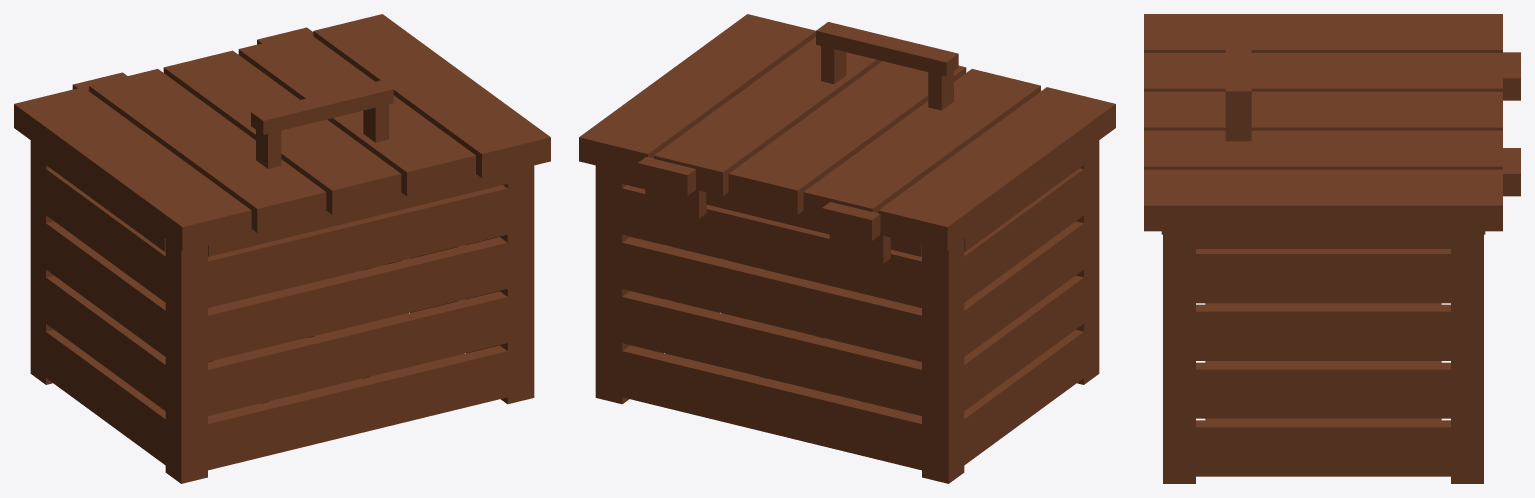
The model's file is GardenBox.glb.
3 views of the same model, side by side, from view 1: azimuth 30°, elevation 25°; view 2: azimuth 150°, elevation 25°; view 3: azimuth 270°, elevation 25° (orthographic). The views are drawn at different scales.
Visible parts, largest first — view 1: GardenBox_Body_Planks, GardenBox_Lid_HingeOrigin; view 2: GardenBox_Body_Planks, GardenBox_Lid_HingeOrigin; view 3: GardenBox_Lid_HingeOrigin, GardenBox_Body_Planks.
Part boxes in pixels (x1,y1,x2,y2): GardenBox_Body_Planks: [30, 140, 534, 483]; GardenBox_Lid_HingeOrigin: [14, 14, 550, 251]; GardenBox_Body_Planks: [595, 140, 1099, 483]; GardenBox_Lid_HingeOrigin: [579, 14, 1115, 251]; GardenBox_Lid_HingeOrigin: [1144, 14, 1520, 231]; GardenBox_Body_Planks: [1161, 231, 1485, 483].
Size of the model in its own units: 0.96 by 0.7825 by 0.798.
